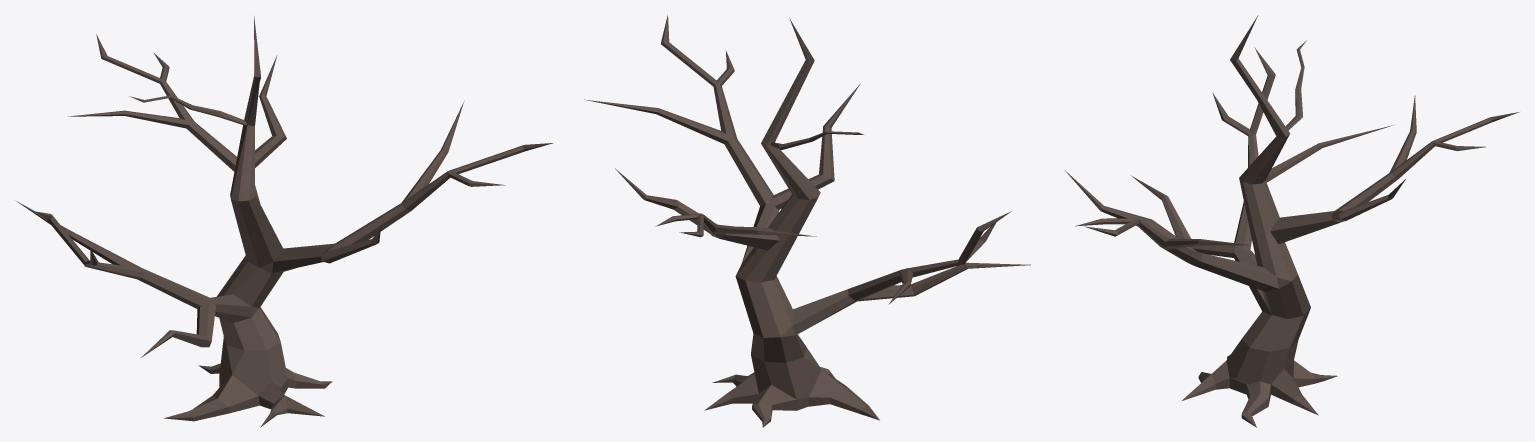
Rendered from tree_dead.glb.
3 renders of one model, left to right at view 1: azimuth 30°, elevation 25°; view 2: azimuth 150°, elevation 25°; view 3: azimuth 270°, elevation 25°, orthographic. The views are drawn at different scales.
Visible parts, largest first — view 1: Dead Tree; view 2: Dead Tree; view 3: Dead Tree.
Boxes of the visible parts, <box> form: Dead Tree: <box>16,16,553,427</box>; Dead Tree: <box>584,15,1030,427</box>; Dead Tree: <box>1065,15,1519,427</box>.
Bounding box in the file's own units: 0.4363 × 0.3727 × 0.4092.
